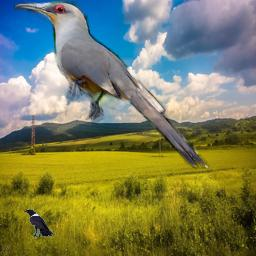Crow: (23, 209, 54, 237)
Cuckoo: (14, 0, 210, 173)
